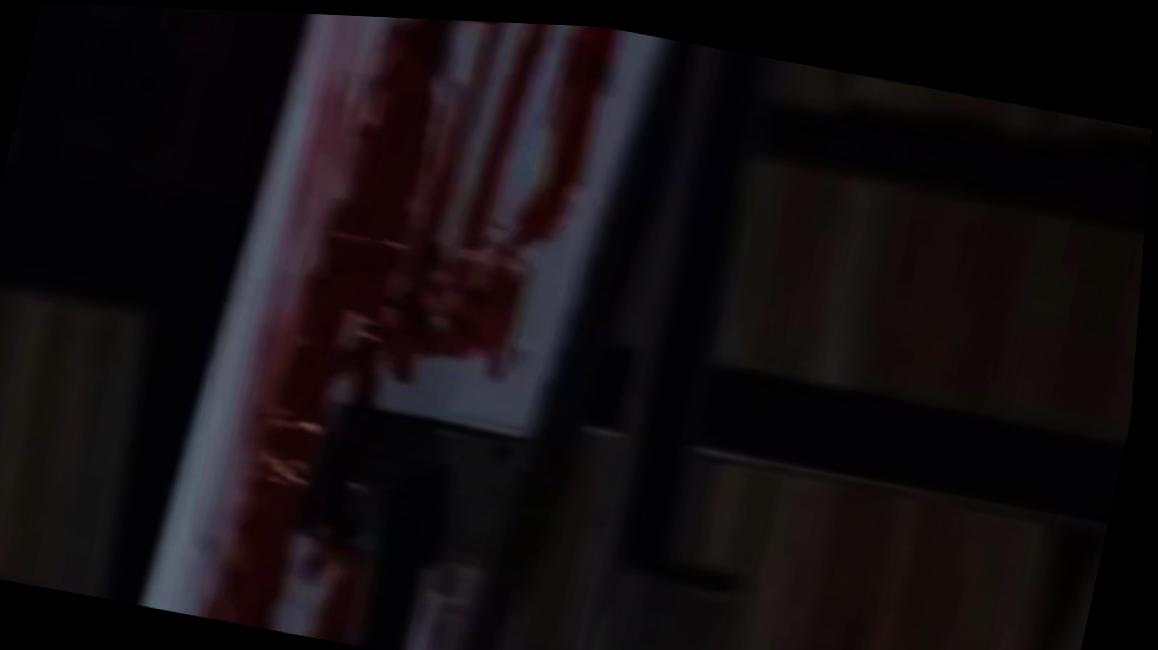Fire: (195, 12, 626, 643)
